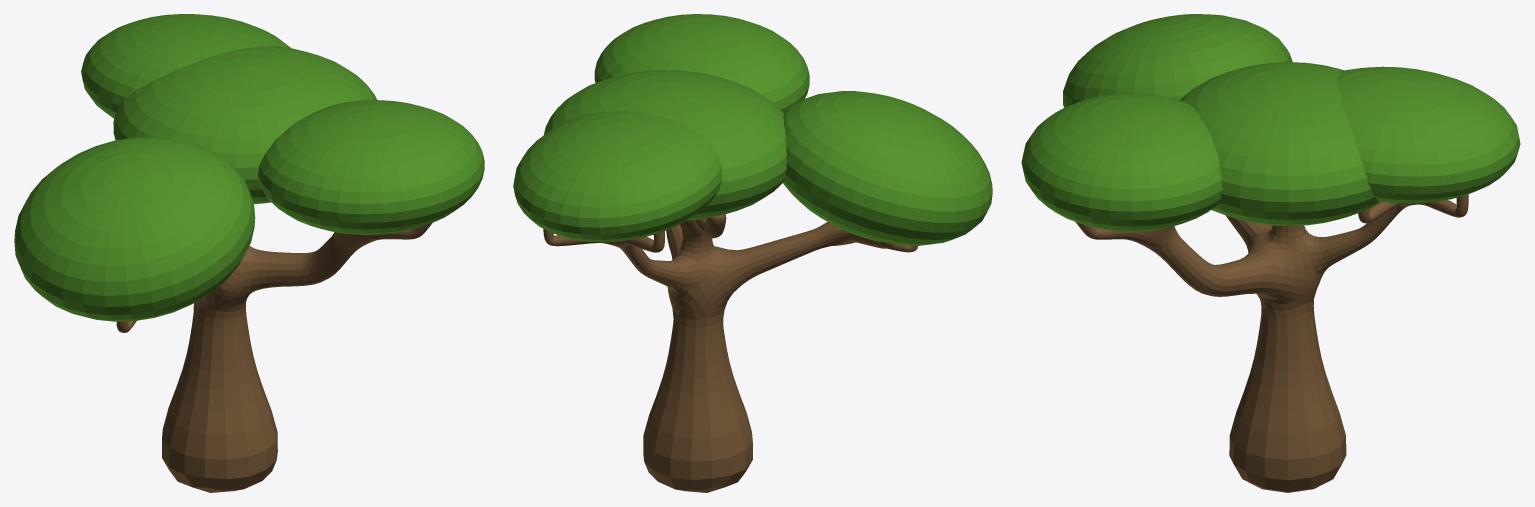
The model's file is tree.fbx.
3 renders of one model, left to right at view 1: azimuth 30°, elevation 25°; view 2: azimuth 150°, elevation 25°; view 3: azimuth 270°, elevation 25°, orthographic. The views are drawn at different scales.
Visible parts, largest first — view 1: Sphere, Sphere.002, Plane, Sphere.003, Sphere.001; view 2: Plane, Sphere, Sphere.001, Sphere.003, Sphere.002; view 3: Plane, Sphere.003, Sphere.002, Sphere.001, Sphere.
Part boxes in pixels (x1,y1,x2,y2): Sphere: [14, 136, 255, 321]; Sphere.002: [257, 100, 484, 234]; Plane: [116, 223, 432, 492]; Sphere.003: [113, 46, 376, 203]; Sphere.001: [81, 14, 290, 118]; Plane: [543, 214, 918, 492]; Sphere: [783, 91, 992, 245]; Sphere.001: [513, 110, 722, 242]; Sphere.003: [544, 70, 786, 220]; Sphere.002: [594, 14, 809, 112]; Plane: [1075, 194, 1468, 492]; Sphere.003: [1179, 62, 1379, 225]; Sphere.002: [1021, 93, 1222, 231]; Sphere.001: [1337, 66, 1520, 203]; Sphere: [1063, 14, 1292, 107].
Bounding box in the file's own units: 1267 × 1188 × 1304.
